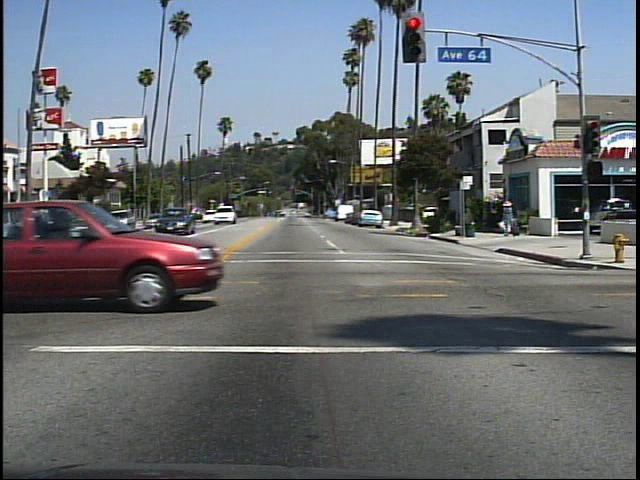person: (495, 195, 522, 245)
